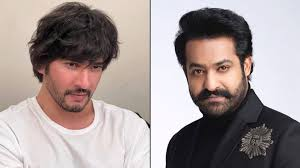Human_Male: (24, 4, 119, 168), (175, 12, 256, 168)
